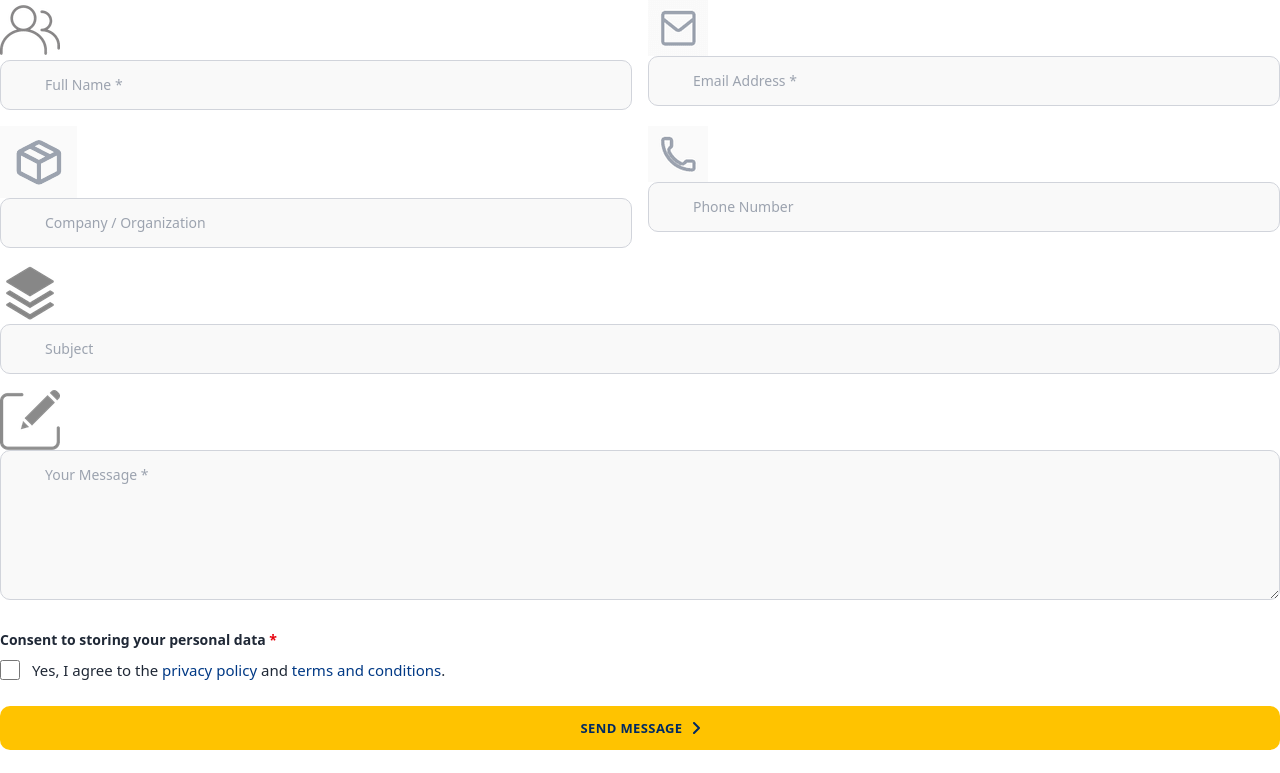
Test case: ContactForm — client validation › blocks an empty submission and names each missing field
This screenshot has width=1280, height=773.
Click the button "Send Message".
click(640, 728)  # box [0, 706, 1279, 750]
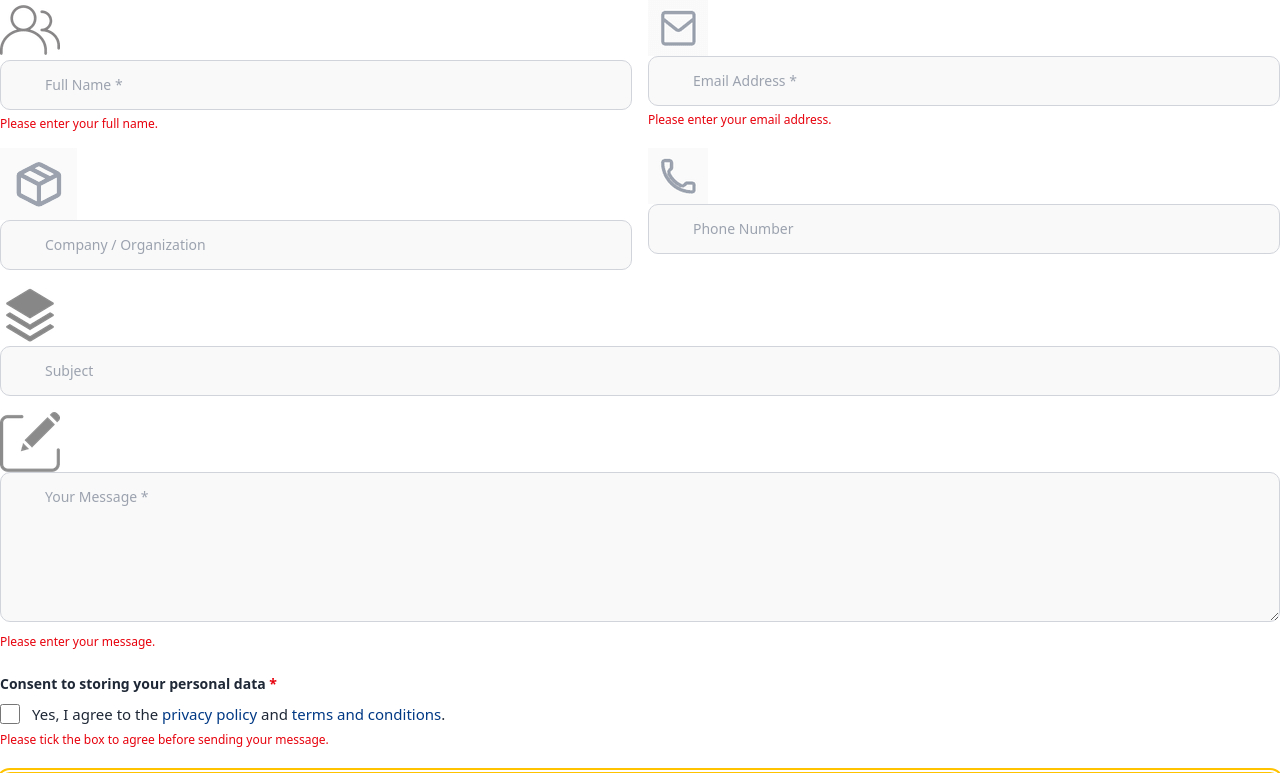
Expected: the text "Please enter your full name." is shown, [0, 115, 158, 132]
Expected: the text "Please enter your email address." is shown, [648, 111, 832, 128]
Expected: the text "Please enter your message." is shown, [0, 633, 155, 650]
